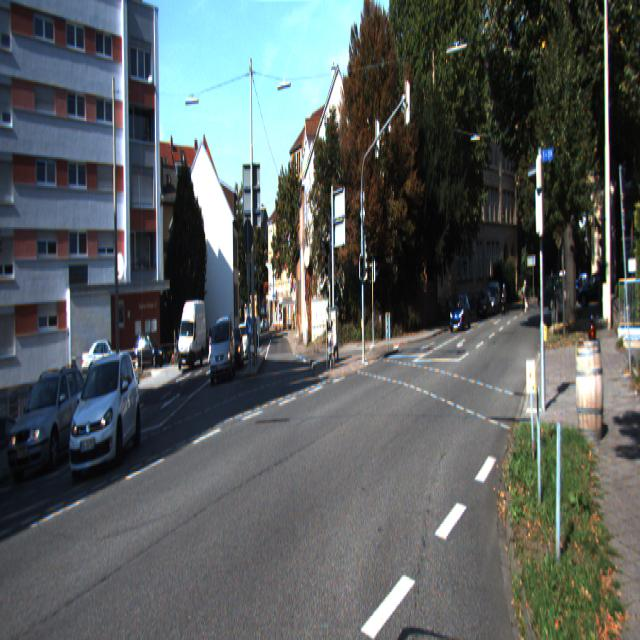Car: (67, 342, 141, 479), (10, 360, 90, 480), (177, 297, 206, 370), (210, 312, 235, 384), (81, 336, 123, 376), (449, 291, 471, 330)
